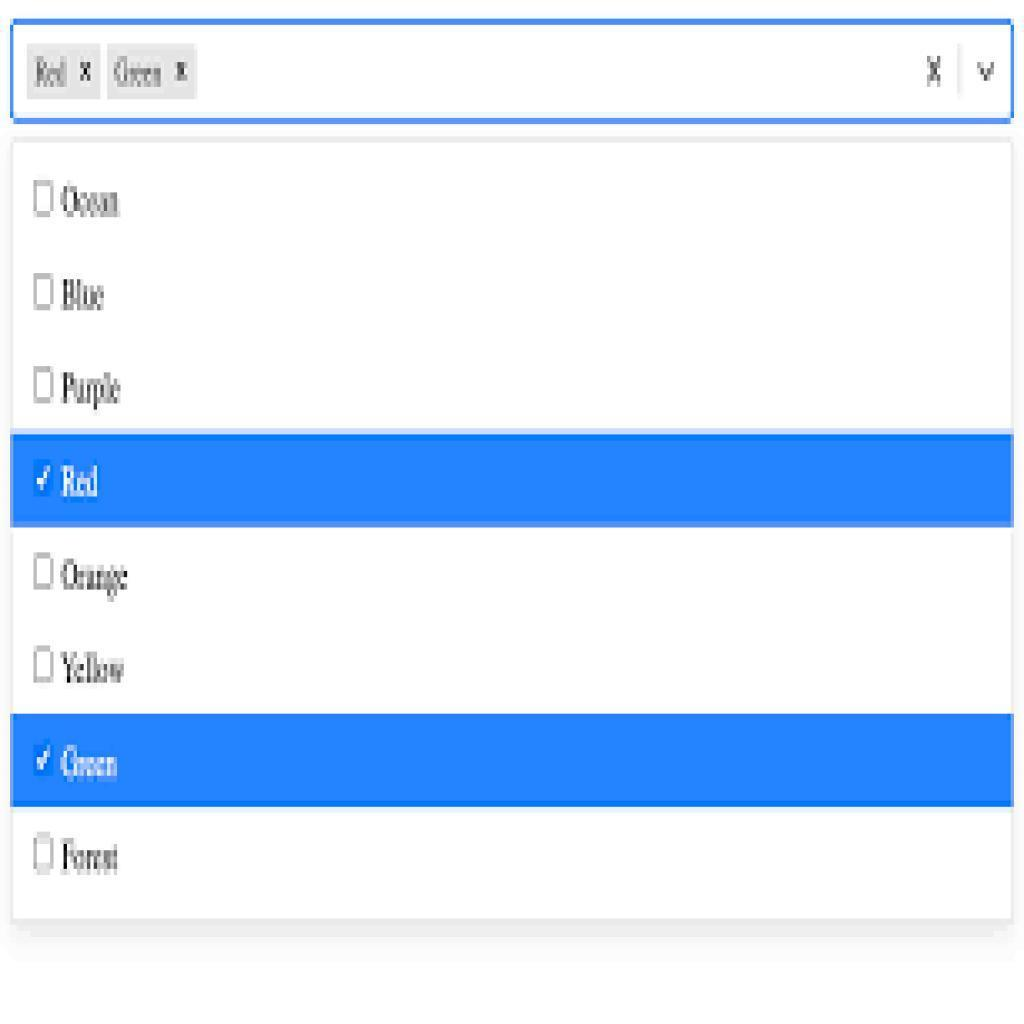checkbox: (33, 647, 58, 686), (32, 555, 57, 590), (35, 833, 56, 874), (35, 275, 57, 311), (35, 368, 56, 404), (35, 182, 55, 219)
dropdown: (17, 23, 1012, 122)
